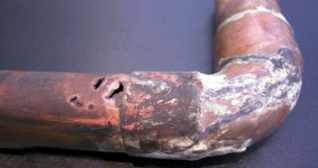hole: (106, 79, 130, 100), (69, 95, 95, 110), (93, 75, 107, 91)
